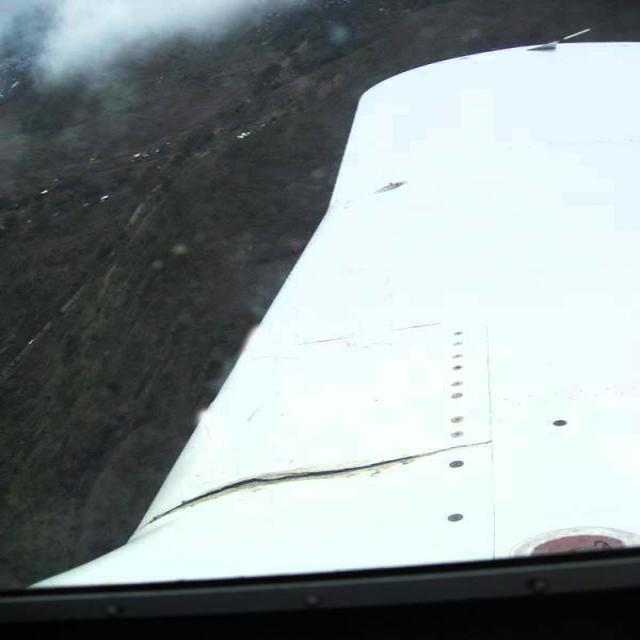crack: (145, 432, 519, 537)
